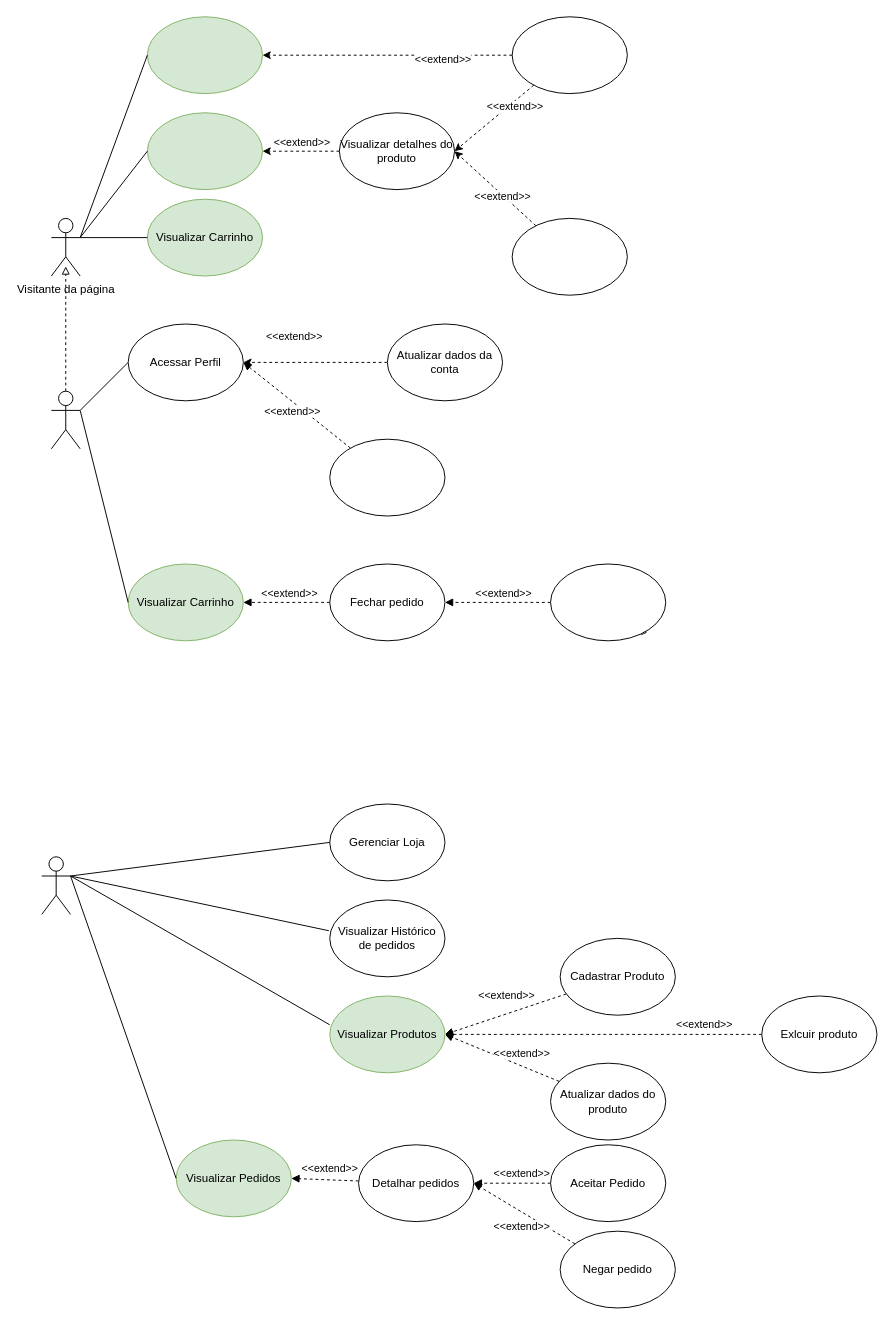
Some shapes in this 894 by 1325 pixel diagram are drawn without their labels. Here are the shapes that lost their labels. From the top down, the centre of each, then its label:
At (x=204, y=55): "Pesquisar por Loja".
At (x=569, y=55): "Visualizar Loja".
At (x=204, y=151): "Pesquisar por Produto".
At (x=569, y=256): "Adicionar Produto ao carrinho".
At (x=65, y=419): "Cliente".
At (x=387, y=477): "Excluir Conta".
At (x=608, y=602): "Acompanhar Pedido".
At (x=56, y=885): "Lojista".
